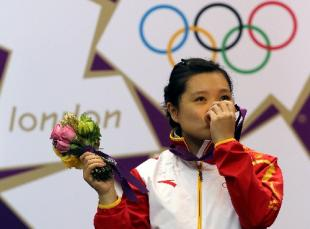face: (177, 72, 235, 137)
